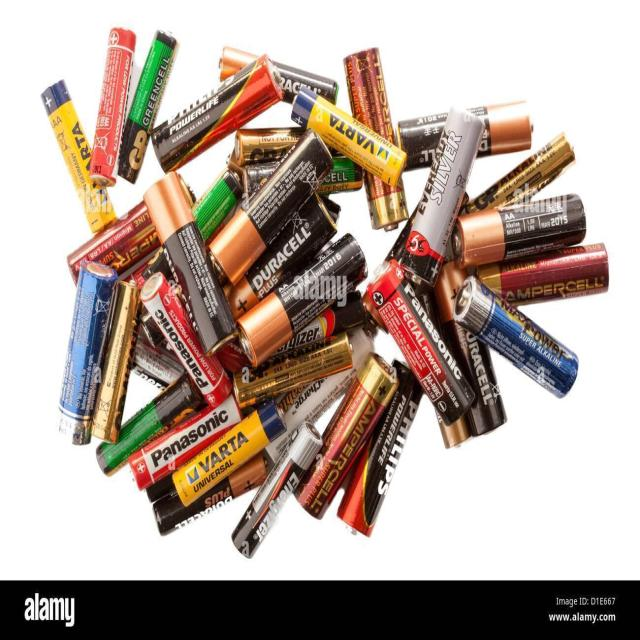AA: (206, 123, 338, 290), (364, 255, 480, 432), (140, 166, 243, 362), (289, 348, 402, 525), (235, 228, 370, 370), (397, 100, 490, 291), (147, 51, 286, 178), (52, 259, 121, 450), (450, 189, 589, 271)
AAA: (451, 272, 581, 404), (227, 417, 327, 563), (136, 270, 236, 414), (168, 395, 291, 511), (287, 80, 410, 192), (38, 75, 119, 237), (228, 327, 356, 415), (115, 25, 182, 188), (89, 274, 148, 445), (86, 24, 139, 191)
